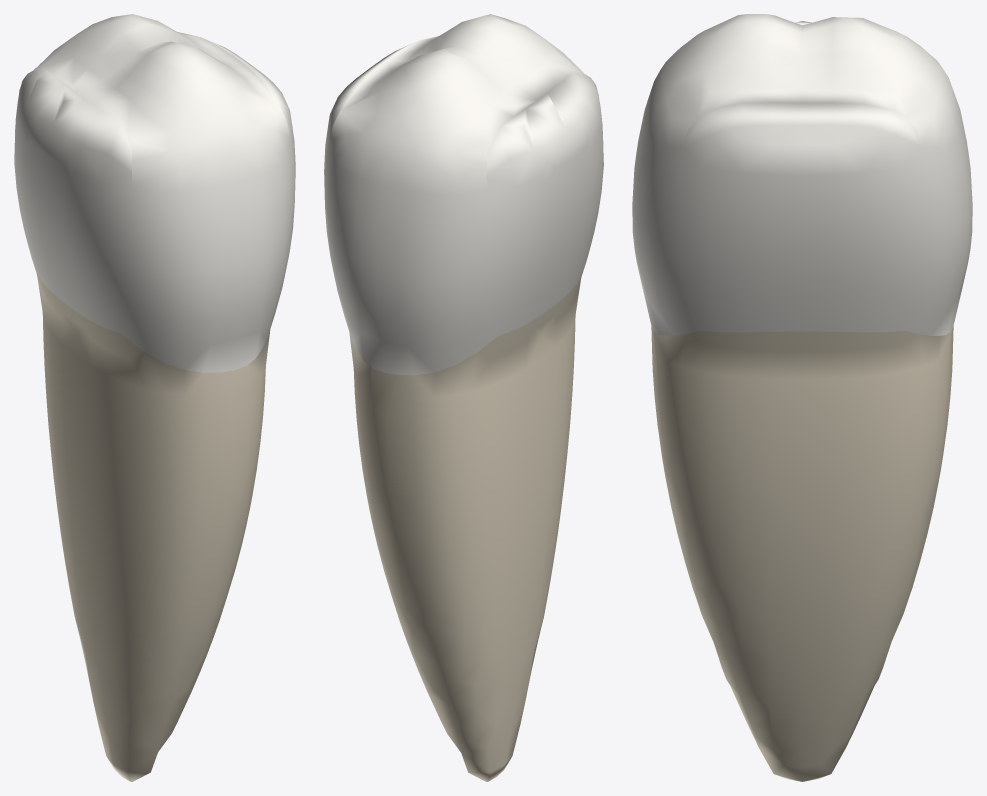
3 views of the same model, side by side, from view 1: azimuth 30°, elevation 25°; view 2: azimuth 150°, elevation 25°; view 3: azimuth 270°, elevation 25° (orthographic). The views are drawn at different scales.
Visible parts, largest first — view 1: root, V, D, O, M; view 2: root, L, D, O, M; view 3: root, M, O, V, L.
Boxes of the visible parts, <box> form: root: <box>36,272,270,781</box>; V: <box>121,82,294,372</box>; D: <box>14,68,133,333</box>; O: <box>42,14,272,130</box>; M: <box>203,38,295,202</box>; root: <box>349,275,581,781</box>; L: <box>325,89,497,375</box>; D: <box>485,71,603,335</box>; O: <box>347,14,576,135</box>; M: <box>324,42,414,199</box>; root: <box>651,326,953,781</box>; M: <box>679,102,925,332</box>; O: <box>703,14,901,110</box>; V: <box>632,31,710,336</box>; L: <box>895,33,972,336</box>.
Bounding box in the file's own units: 7 × 22.64 × 8.99.
